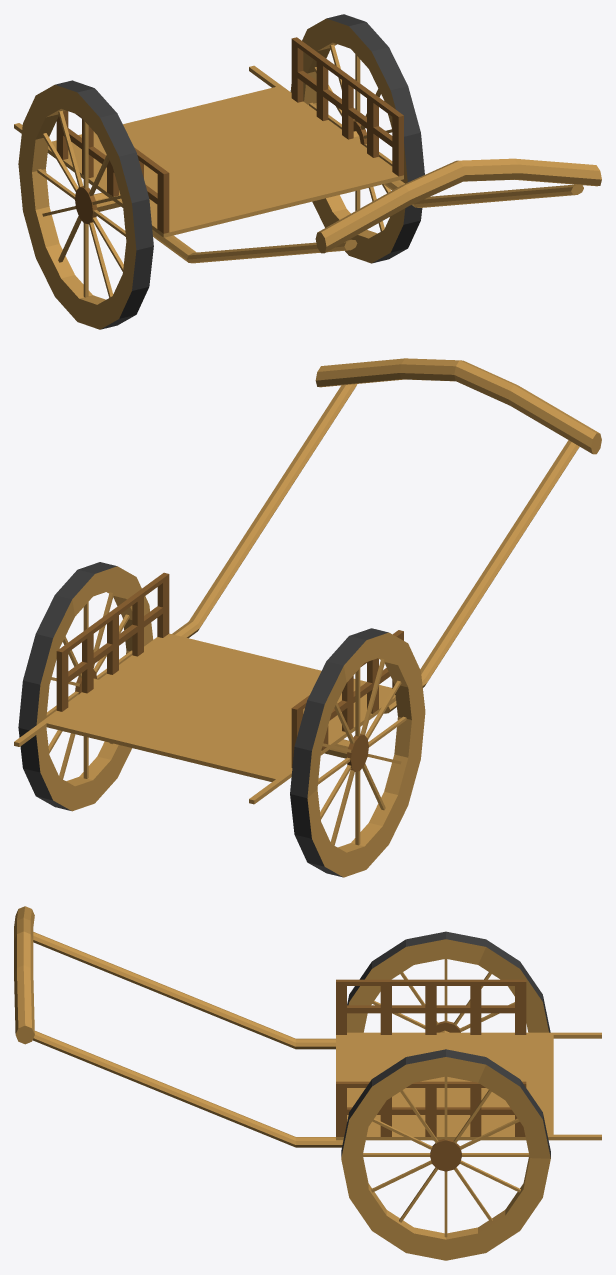
File: lightExtra.fbx
3 renders of one model, top to bottom at view 1: azimuth 30°, elevation 25°; view 2: azimuth 150°, elevation 25°; view 3: azimuth 270°, elevation 25°, orthographic. The views are drawn at different scales.
Parts seen in each view (by area): view 1: LightExtra; view 2: LightExtra; view 3: LightExtra.
Part boxes in pixels (x1,y1,x2,y2): LightExtra: (14, 14, 601, 329); LightExtra: (14, 358, 601, 877); LightExtra: (14, 906, 601, 1260).
Bounding box in the file's own units: 1.51 × 1.5 × 2.99.
